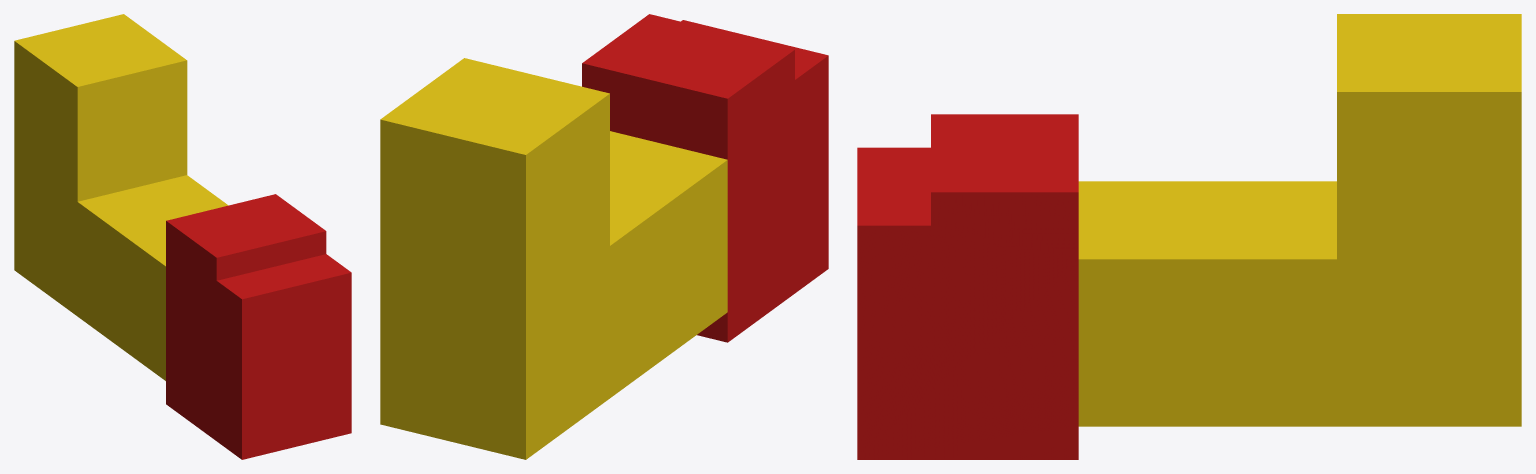
File: boxer arm.obj
3 views of the same model, side by side, from view 1: azimuth 30°, elevation 25°; view 2: azimuth 150°, elevation 25°; view 3: azimuth 270°, elevation 25° (orthographic). The views are drawn at different scales.
Bounding box in the file's own units: 5 × 11 × 18.
